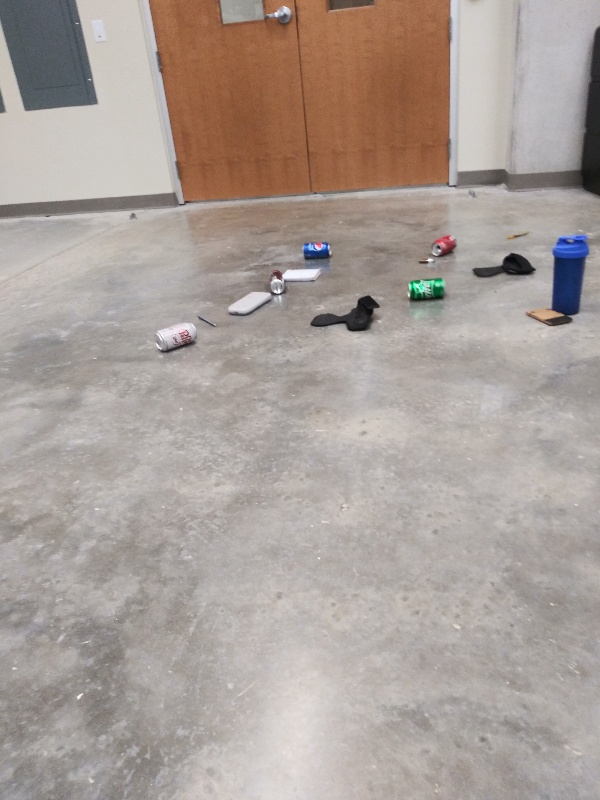can: (151, 316, 200, 353), (404, 277, 451, 301), (428, 233, 462, 257), (299, 240, 336, 259), (265, 266, 287, 297)
